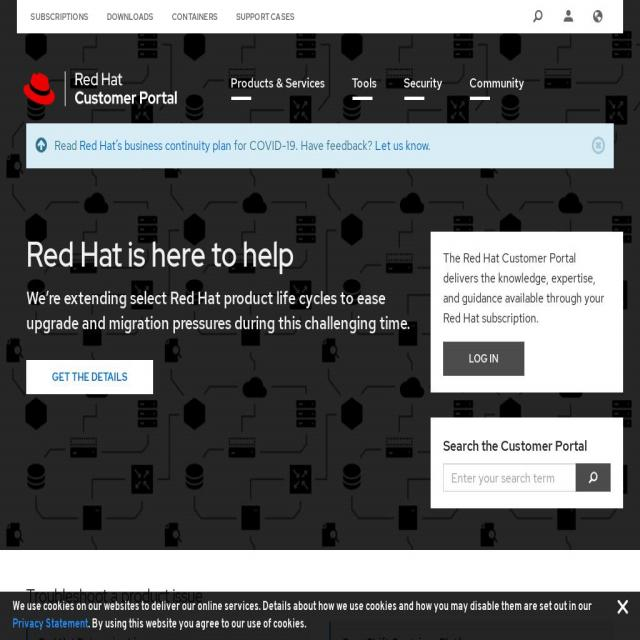language: (586, 5, 610, 28)
login-option: (560, 7, 578, 30)
navigation-links: (218, 67, 532, 108), (24, 7, 298, 30)
search: (428, 425, 622, 505), (527, 8, 545, 28)
